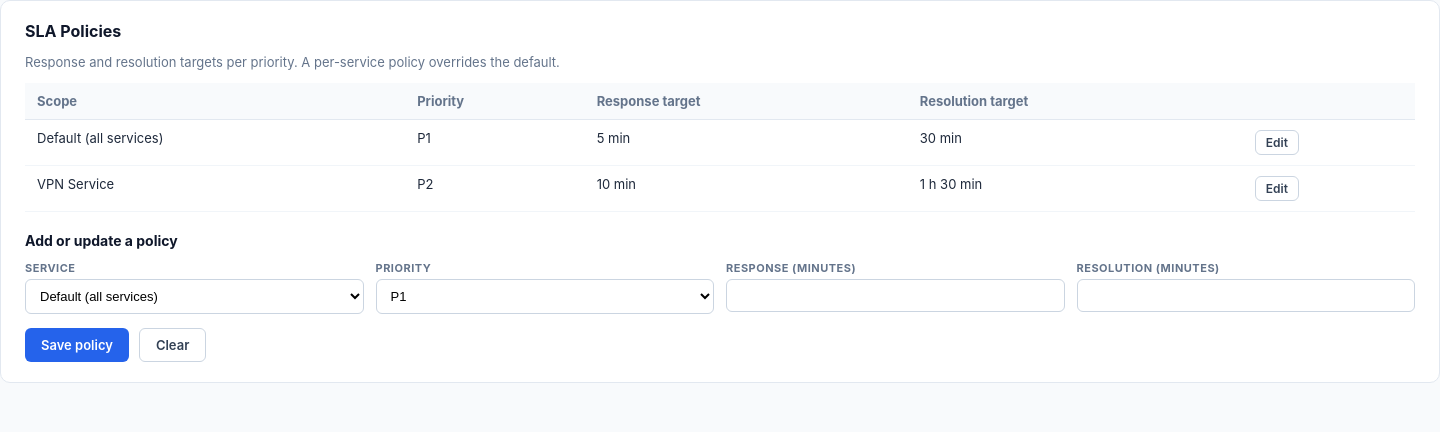
Scenario: SlaPoliciesPanel › saves a policy through the backend and reloads the list
The width and height of the screenshot is (1440, 432).
Select "P1" in the dropdown labelled "Priority": (545, 296) [376, 279, 714, 314]
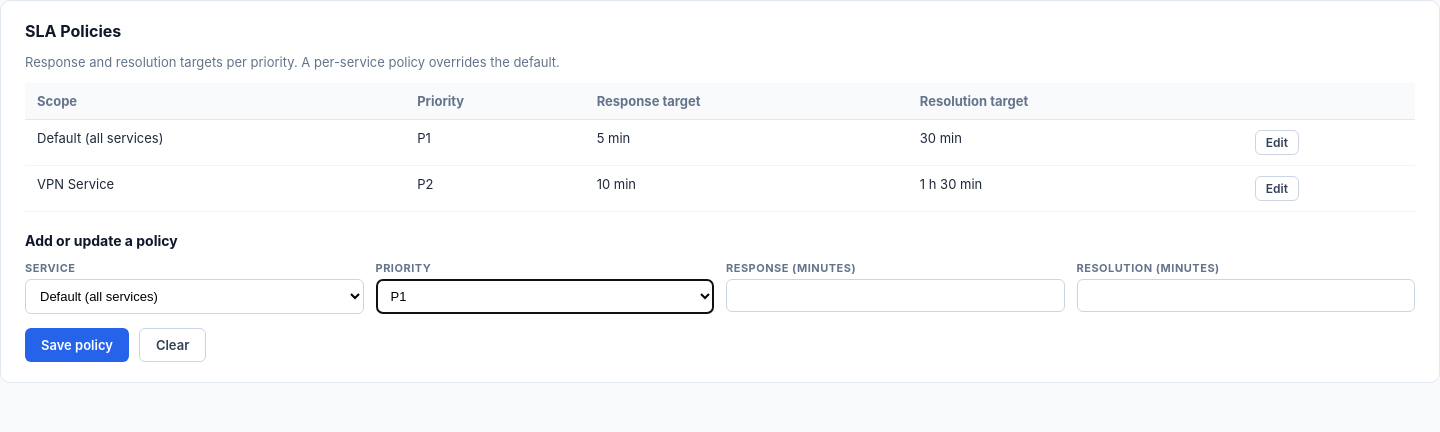
In the number field labelled "Response (minutes)": (895, 296) [726, 279, 1064, 312], type "2"
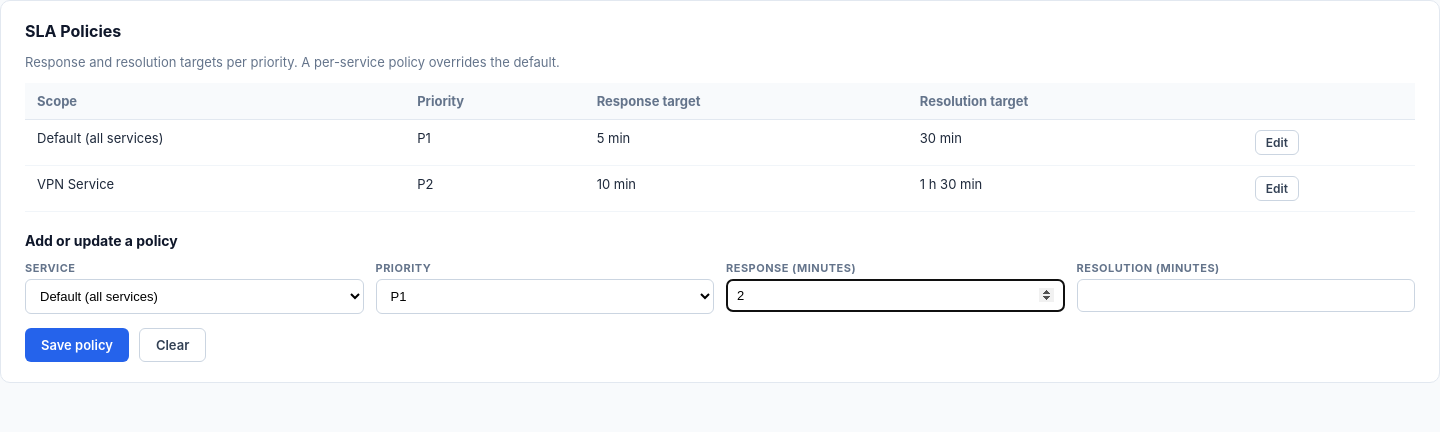
In the number field labelled "Resolution (minutes)": (1246, 296) [1076, 279, 1415, 312], type "20"
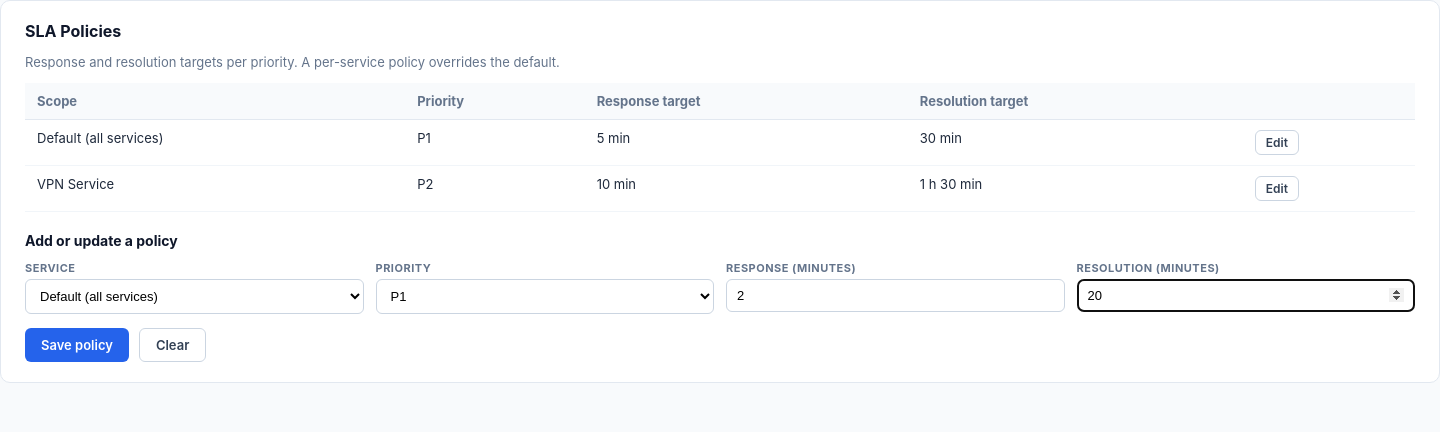
Click the button "Save policy": click(77, 345) [25, 328, 129, 362]
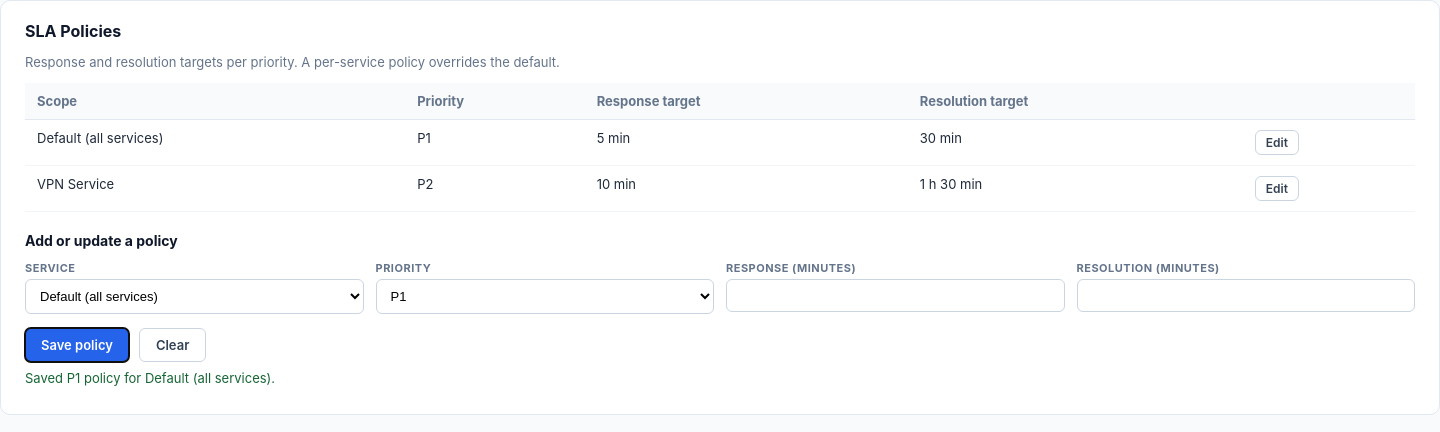
Expected: the message shows "Saved P1 policy", [25, 370, 275, 386]
